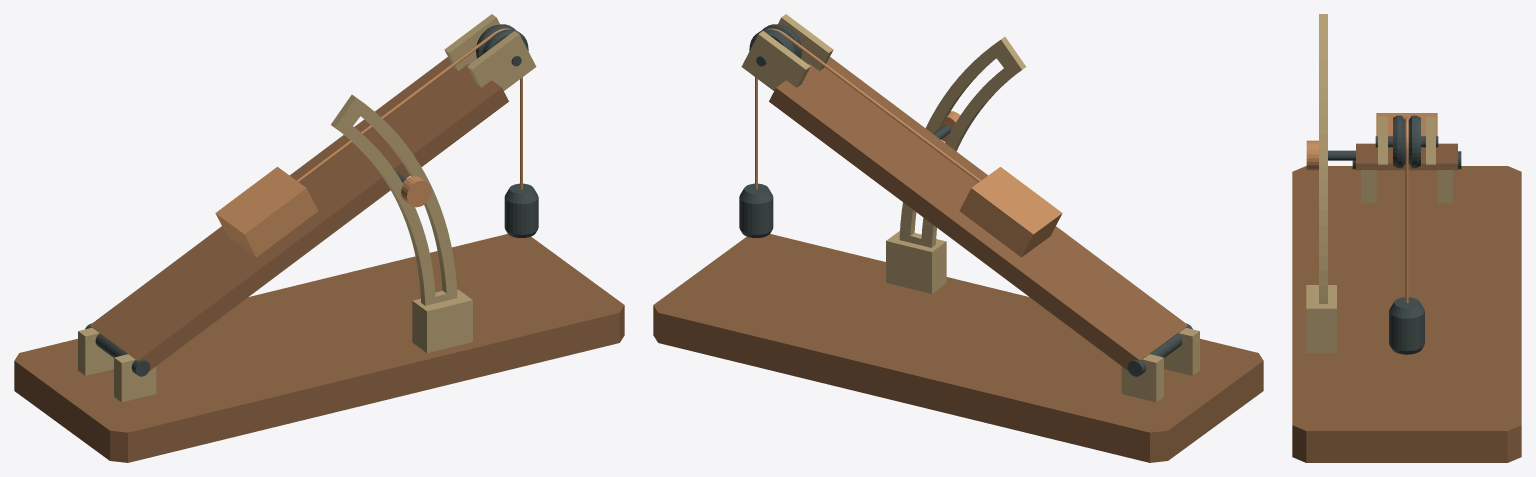
The picture shows the model from 3 angles, left to right: view 1: azimuth 30°, elevation 25°; view 2: azimuth 150°, elevation 25°; view 3: azimuth 270°, elevation 25°; orthographic projection. The views are drawn at different scales.
Visible parts, largest first — view 1: WholeLowInstrumentBase, WholeNarrowInclinedBoard, WholeCurvedOpenSlotSideFrame, WholeCompleteBoardBlock, WholeQuadrantGroundFoot, WholeUpperSheaveCheek0, WholeFixedHangingWeight, WholeLowerPivotFoot0, WholeLowerPivotFoot1, WholeContinuousBlockAndWeightCord, WholeUpperSheaveCheek1, WholeBroadSlotKnob (+2 smaller); view 2: WholeLowInstrumentBase, WholeNarrowInclinedBoard, WholeCompleteBoardBlock, WholeCurvedOpenSlotSideFrame, WholeQuadrantGroundFoot, WholeUpperSheaveCheek1, WholeFixedHangingWeight, WholeLowerPivotFoot1, WholeContinuousBlockAndWeightCord, WholeLowerPivotFoot0, WholeUpperSheaveCheek0, WholeGroovedUpperSheave (+1 smaller); view 3: WholeLowInstrumentBase, WholeCurvedOpenSlotSideFrame, WholeQuadrantGroundFoot, WholeFixedHangingWeight, WholeNarrowInclinedBoard, WholeGroovedUpperSheave, WholeContinuousBlockAndWeightCord, WholeLowerPivotFoot0, WholeLowerPivotFoot1, WholeCompleteBoardBlock, WholeUpperSheaveCheek0, WholeUpperSheaveCheek1 (+2 smaller).
Boxes of the visible parts, x1,y1,x2,y2 form: WholeLowInstrumentBase: [14, 234, 624, 462]; WholeNarrowInclinedBoard: [89, 57, 508, 370]; WholeCurvedOpenSlotSideFrame: [331, 94, 457, 305]; WholeCompleteBoardBlock: [215, 167, 318, 257]; WholeQuadrantGroundFoot: [412, 289, 472, 352]; WholeUpperSheaveCheek0: [467, 31, 536, 90]; WholeFixedHangingWeight: [504, 183, 538, 237]; WholeLowerPivotFoot0: [114, 354, 156, 402]; WholeLowerPivotFoot1: [78, 327, 113, 375]; WholeContinuousBlockAndWeightCord: [297, 28, 522, 189]; WholeUpperSheaveCheek1: [444, 14, 499, 70]; WholeBroadSlotKnob: [401, 176, 431, 207]; WholeLowInstrumentBase: [653, 234, 1263, 462]; WholeNarrowInclinedBoard: [769, 57, 1188, 370]; WholeCompleteBoardBlock: [959, 167, 1062, 257]; WholeCurvedOpenSlotSideFrame: [899, 37, 1025, 247]; WholeQuadrantGroundFoot: [886, 231, 946, 293]; WholeUpperSheaveCheek1: [741, 31, 810, 90]; WholeFixedHangingWeight: [739, 183, 773, 237]; WholeLowerPivotFoot1: [1121, 354, 1163, 402]; WholeContinuousBlockAndWeightCord: [755, 28, 980, 189]; WholeLowerPivotFoot0: [1164, 327, 1199, 375]; WholeUpperSheaveCheek0: [778, 14, 833, 70]; WholeGroovedUpperSheave: [749, 24, 801, 58]; WholeLowInstrumentBase: [1292, 166, 1521, 462]; WholeCurvedOpenSlotSideFrame: [1319, 14, 1327, 303]; WholeQuadrantGroundFoot: [1306, 285, 1336, 352]; WholeFixedHangingWeight: [1389, 297, 1424, 354]; WholeNarrowInclinedBoard: [1356, 143, 1457, 170]; WholeGroovedUpperSheave: [1393, 115, 1420, 168]; WholeContinuousBlockAndWeightCord: [1405, 117, 1408, 303]; WholeLowerPivotFoot0: [1361, 170, 1376, 203]; WholeLowerPivotFoot1: [1437, 170, 1452, 203]; WholeCompleteBoardBlock: [1376, 113, 1437, 136]; WholeUpperSheaveCheek0: [1378, 116, 1387, 164]; WholeUpperSheaveCheek1: [1426, 116, 1435, 164].
Size of the model in its own units: 1.12 by 0.6183 by 0.41.
